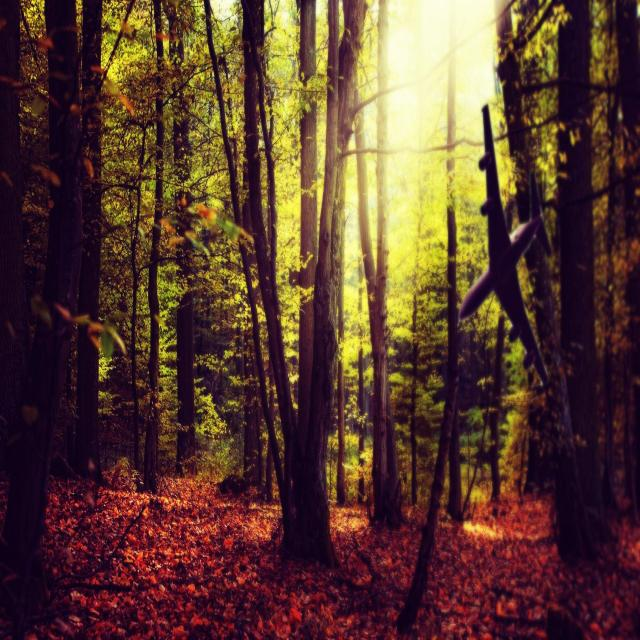airplane: (458, 102, 552, 387)
